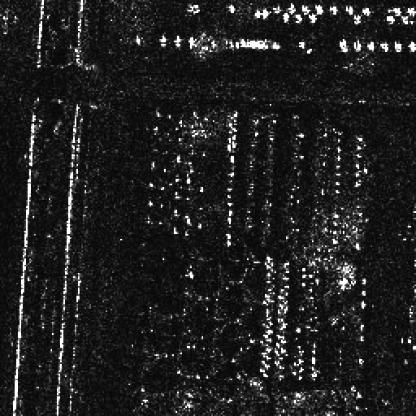airplane: (224, 3, 238, 15), (170, 32, 180, 46), (338, 39, 349, 50), (158, 34, 168, 46), (351, 39, 361, 50), (186, 34, 194, 47), (378, 42, 388, 52), (393, 42, 403, 52), (260, 8, 268, 20), (383, 14, 395, 22), (314, 1, 322, 12), (406, 41, 414, 52), (281, 11, 288, 23), (254, 10, 262, 20), (271, 5, 281, 13), (294, 13, 302, 23), (300, 3, 308, 13), (344, 3, 352, 13), (361, 5, 369, 15), (392, 6, 402, 14), (404, 6, 414, 14), (400, 16, 410, 24), (366, 40, 374, 50), (307, 13, 315, 21), (328, 5, 336, 13), (353, 13, 359, 23), (288, 3, 294, 12)
